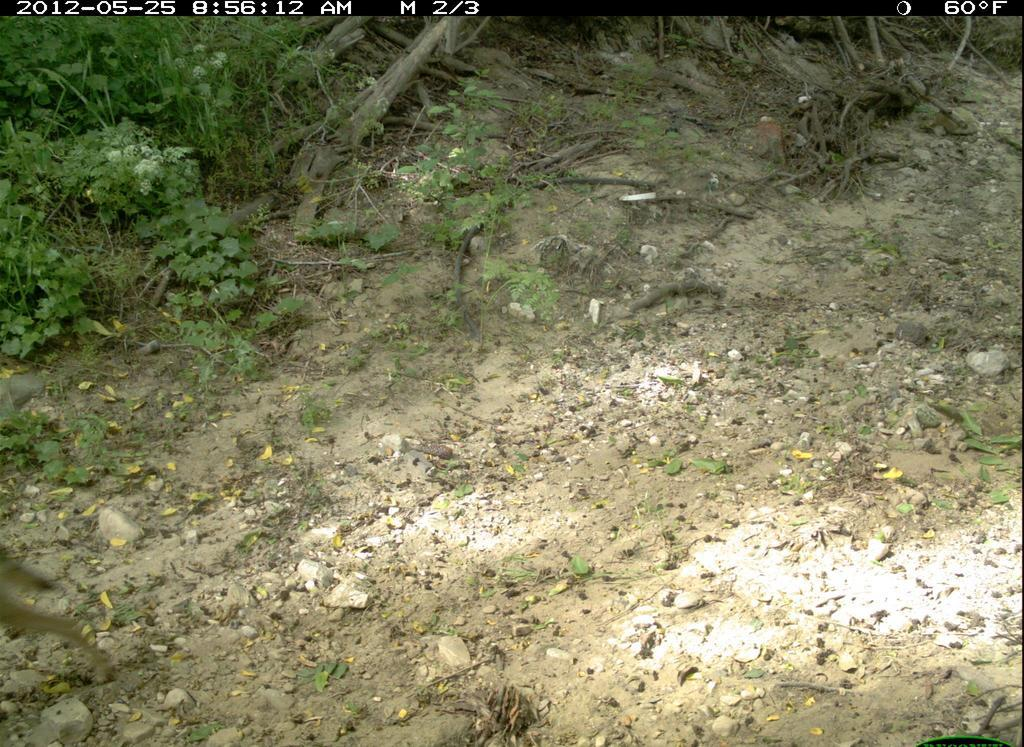coyote: (3, 536, 125, 689)
